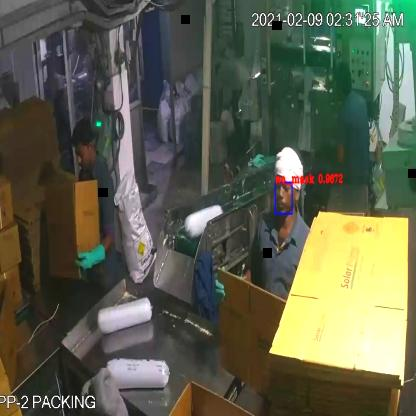glove: (66, 233, 115, 275)
